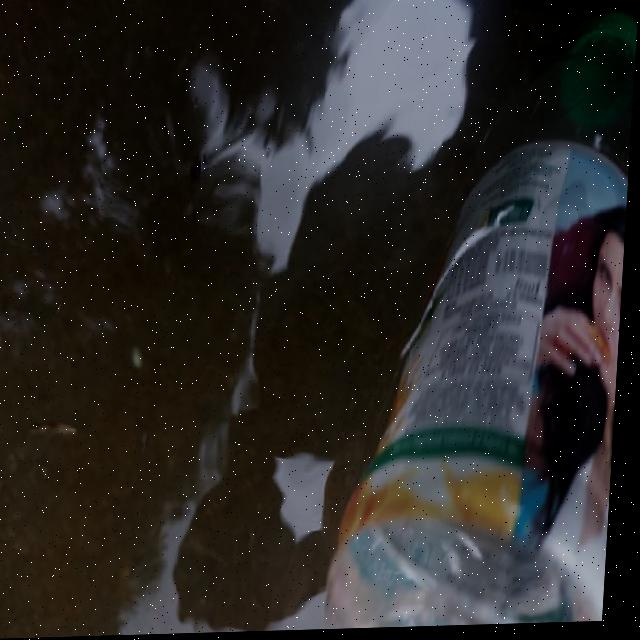waterbottle: (331, 0, 640, 632)
